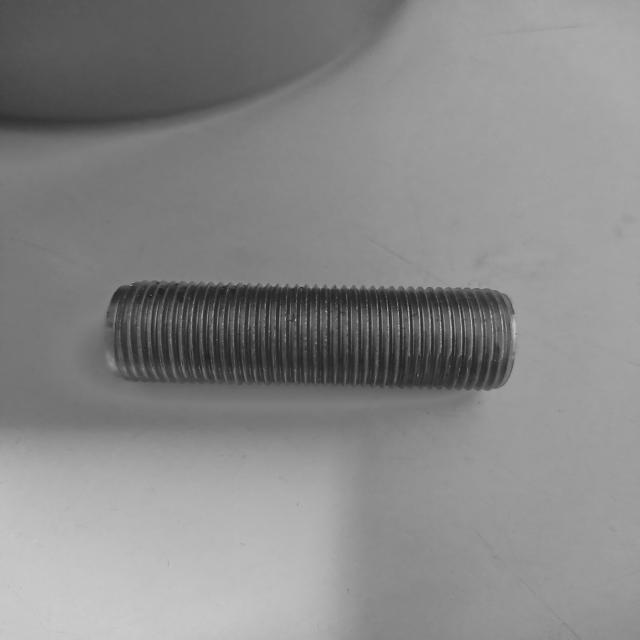Normal: (104, 279, 516, 392)
